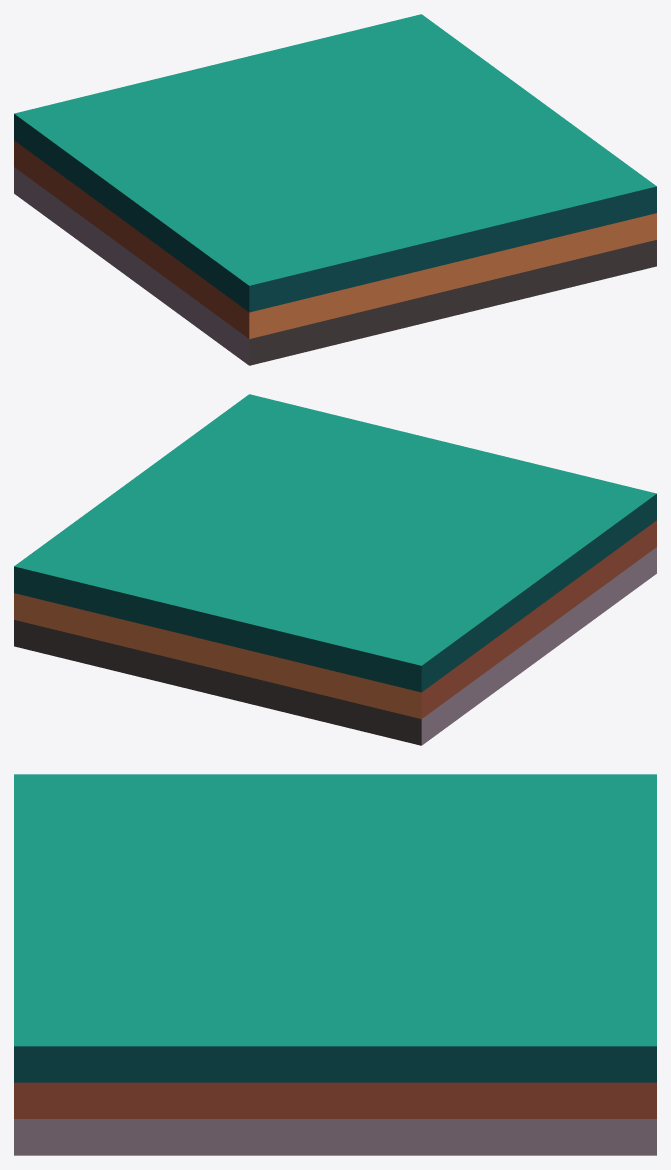
File: playspace.gltf
3 renders of one model, top to bottom at view 1: azimuth 30°, elevation 25°; view 2: azimuth 150°, elevation 25°; view 3: azimuth 270°, elevation 25°, orthographic. The views are drawn at different scales.
Visible parts, largest first — view 1: cuboid (×3); view 2: cuboid (×3); view 3: cuboid (×3).
Part boxes in pixels (<box>): cuboid (×3): <box>14,14,656,365</box>; cuboid (×3): <box>14,394,656,745</box>; cuboid (×3): <box>14,774,656,1155</box>.
Bounding box in the file's own units: 1 × 0.1875 × 1.
Materials: 3 (3 with a texture image).
